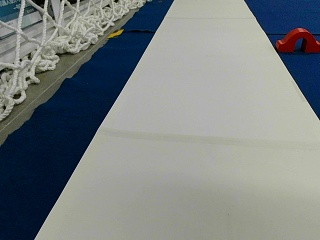bridge: (277, 27, 319, 51)
